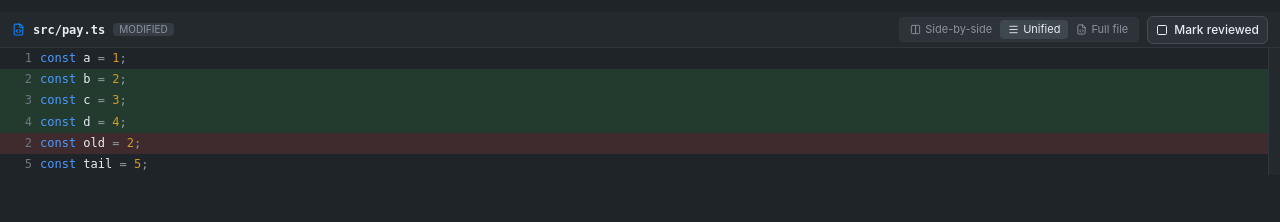
Test: ReviewDiffPane › full file › falls back to the diff when the fetched file does not match the patch
What coordinates should you click on to do the following:
click the button "Full file"
I would click on:
 (1102, 30)
Its box is x1=1068 y1=20 x2=1136 y2=39.
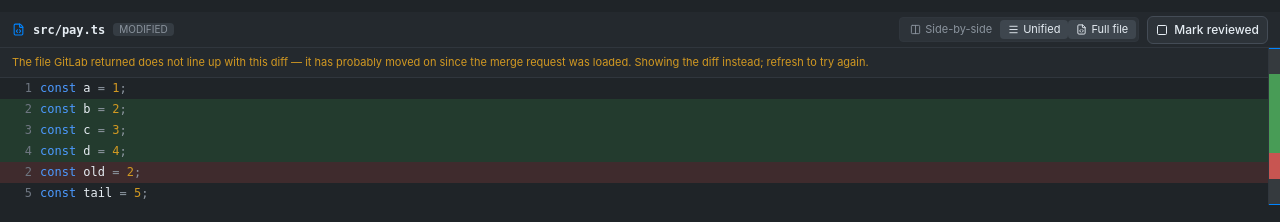
Expected: the text "const b = 2;" is shown, x1=40 y1=102 x2=127 y2=116
Expected: the text "does not line up with this diff" is shown, x1=12 y1=55 x2=869 y2=69
